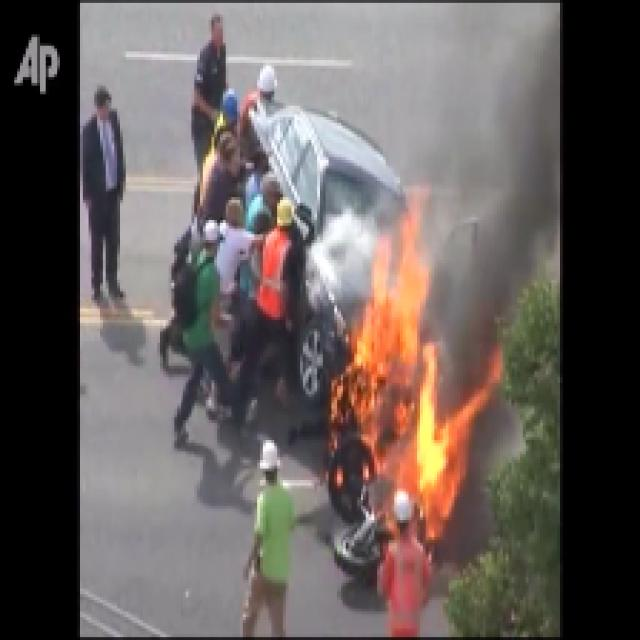fire: (360, 323, 443, 523)
smoke: (450, 239, 500, 357)
